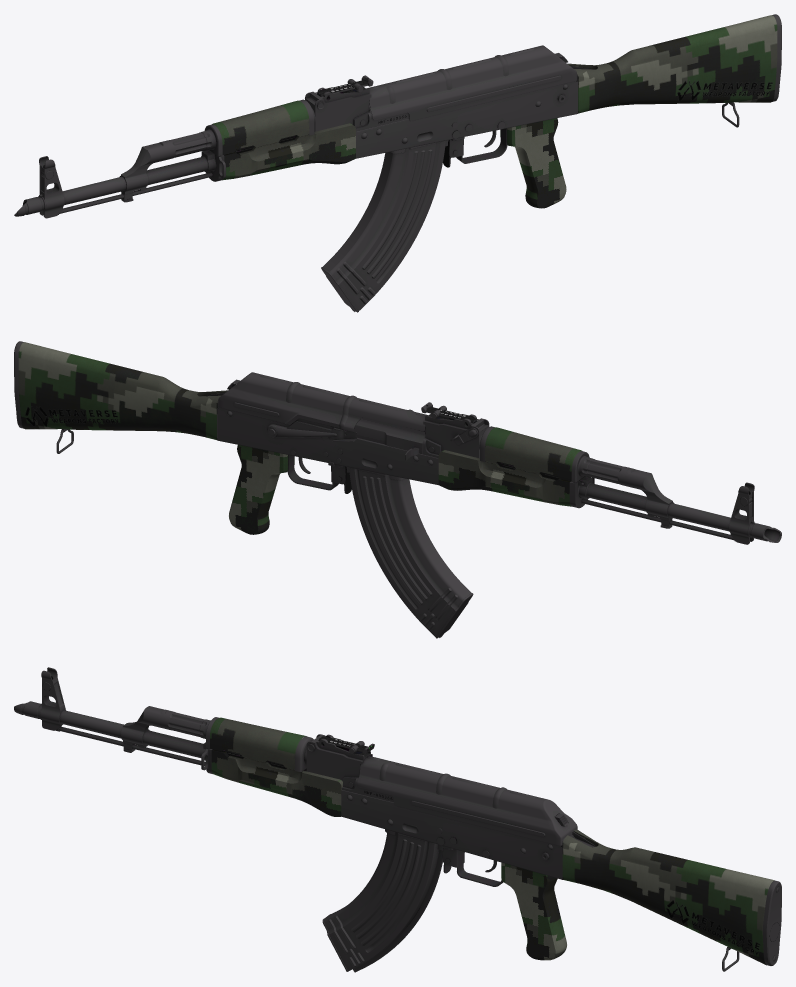
The model's file is MWF-000366.glb.
The picture shows the model from 3 angles, top to bottom: view 1: azimuth 30°, elevation 25°; view 2: azimuth 150°, elevation 25°; view 3: azimuth 330°, elevation 25°; orthographic projection.
Parts seen in each view (by area): view 1: RECIEVER_RPK, STOCK_Standard, MAG_7.62, HANDGUARD_Standard, BARREL_AKM, GRIP_Wood; view 2: RECIEVER_RPK, STOCK_Standard, MAG_7.62, HANDGUARD_Standard, BARREL_AKM, GRIP_Wood, Bolt, Selector, BARREL_Compensator; view 3: RECIEVER_RPK, STOCK_Standard, MAG_7.62, HANDGUARD_Standard, BARREL_AKM, GRIP_Wood.
Part boxes in pixels (<box>): RECIEVER_RPK: <box>305,45,577,167</box>; STOCK_Standard: <box>567,14,781,113</box>; MAG_7.62: <box>321,140,448,312</box>; HANDGUARD_Standard: <box>212,99,355,180</box>; BARREL_AKM: <box>39,124,225,218</box>; GRIP_Wood: <box>500,118,566,208</box>; RECIEVER_RPK: <box>217,372,489,493</box>; STOCK_Standard: <box>14,341,227,439</box>; MAG_7.62: <box>346,466,473,638</box>; HANDGUARD_Standard: <box>438,426,581,506</box>; BARREL_AKM: <box>569,451,754,544</box>; GRIP_Wood: <box>229,445,294,534</box>; Bolt: <box>354,417,425,460</box>; Selector: <box>264,418,356,441</box>; BARREL_Compensator: <box>747,520,781,542</box>; RECIEVER_RPK: <box>306,734,577,886</box>; STOCK_Standard: <box>562,829,781,965</box>; MAG_7.62: <box>322,829,442,972</box>; HANDGUARD_Standard: <box>210,717,342,816</box>; BARREL_AKM: <box>40,667,219,774</box>; GRIP_Wood: <box>501,862,566,960</box>.
Bounding box in the file's own units: 0.8815 × 0.2536 × 0.0638.
Materials: 6 (6 with a texture image).
